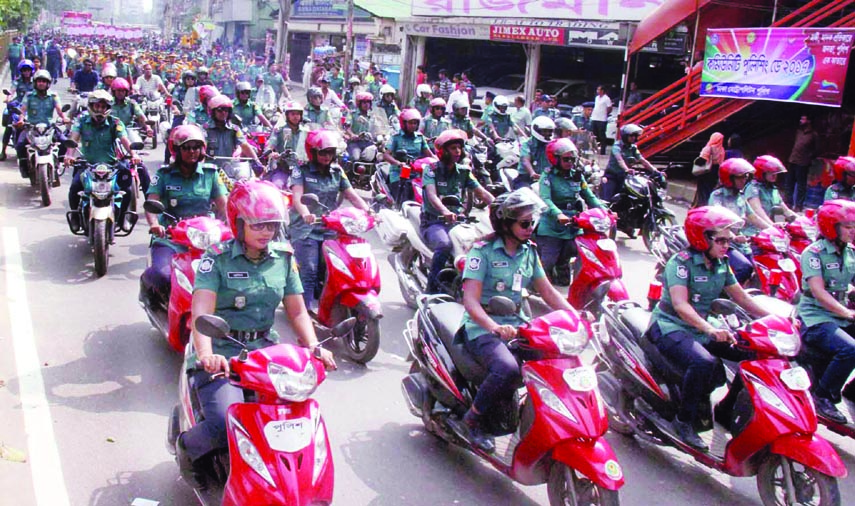motorbike: (63, 137, 145, 280), (593, 158, 678, 247), (3, 105, 74, 206), (135, 92, 172, 149)
scooter: (592, 261, 849, 506), (397, 283, 626, 506), (167, 314, 356, 506), (299, 192, 390, 364), (140, 197, 236, 354), (539, 207, 630, 311), (749, 219, 826, 312), (370, 157, 440, 211)
